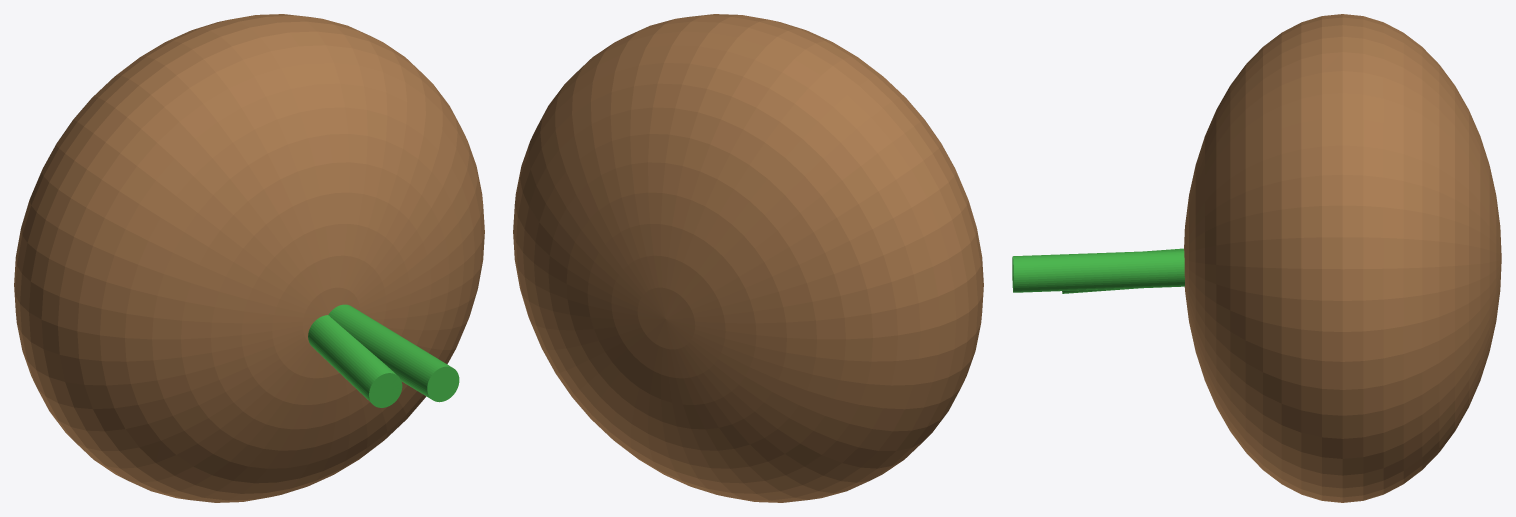
Rendered from tinker.obj.
3 renders of one model, left to right at view 1: azimuth 30°, elevation 25°; view 2: azimuth 150°, elevation 25°; view 3: azimuth 270°, elevation 25°, orthographic. The views are drawn at different scales.
Parts seen in each view (by area): view 1: obj_0, obj_1, obj_2; view 2: obj_0; view 3: obj_0, obj_1.
Boxes of the visible parts, x1,y1,x2,y2 form: obj_0: [14, 14, 484, 502]; obj_1: [328, 304, 459, 402]; obj_2: [308, 315, 402, 407]; obj_0: [513, 14, 983, 502]; obj_0: [1184, 14, 1501, 502]; obj_1: [1012, 250, 1184, 292].
Size of the model in its own units: 20 by 20 by 20.
